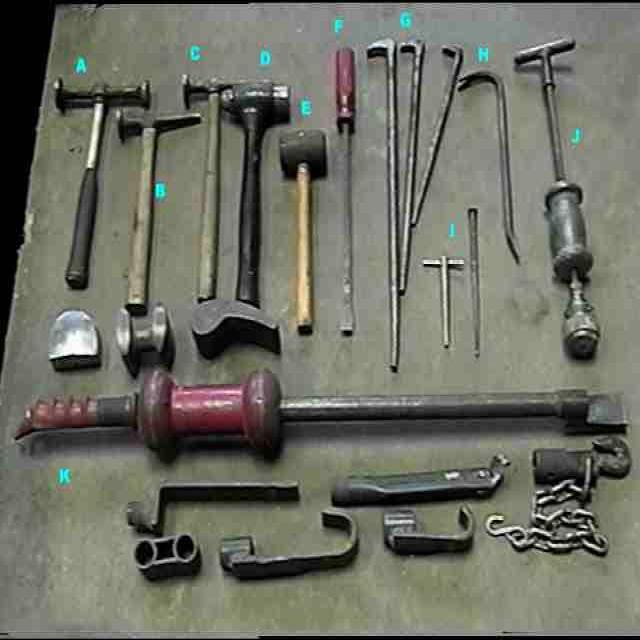hammer: (46, 71, 146, 285), (109, 103, 203, 325), (219, 75, 295, 309), (174, 66, 243, 304), (278, 125, 333, 349)
screwdriver: (332, 39, 365, 343)
